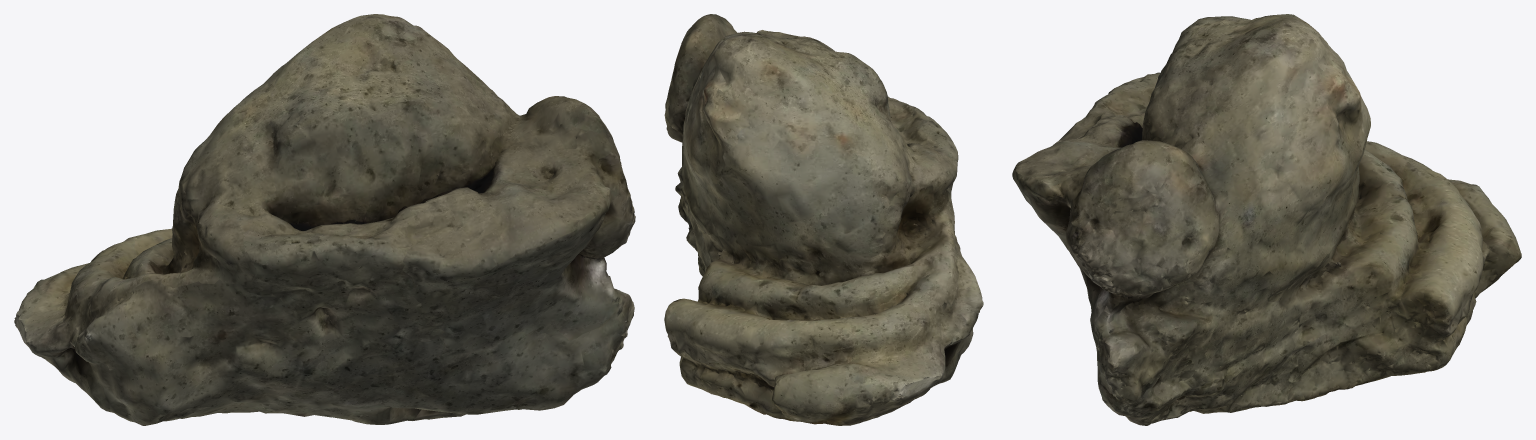
3 renders of one model, left to right at view 1: azimuth 30°, elevation 25°; view 2: azimuth 150°, elevation 25°; view 3: azimuth 270°, elevation 25°, orthographic. The views are drawn at different scales.
Parts seen in each view (by area): view 1: Mesh_0.004; view 2: Mesh_0.004; view 3: Mesh_0.004.
Boxes of the visible parts, bbox=[...] form: Mesh_0.004: bbox=[14, 14, 635, 425]; Mesh_0.004: bbox=[664, 14, 983, 425]; Mesh_0.004: bbox=[1012, 14, 1521, 425].
Bounding box in the file's own units: 0.1376 × 0.1091 × 0.1362.
1 material, 1 textured.
